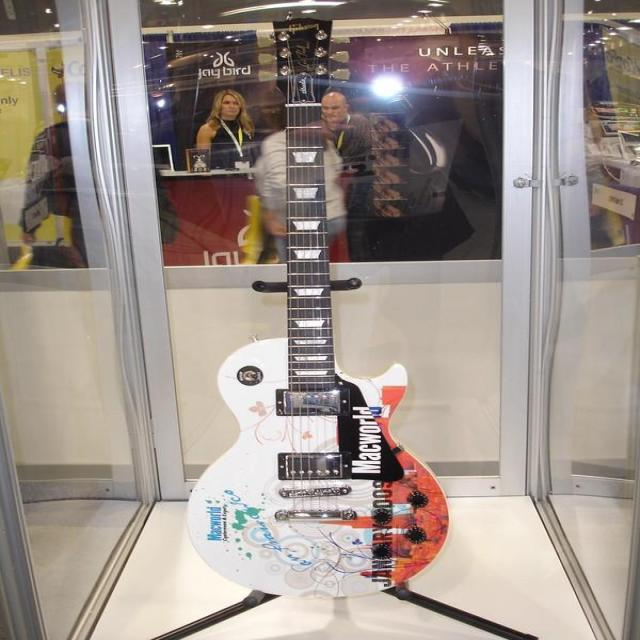guitar: (188, 19, 447, 596)
